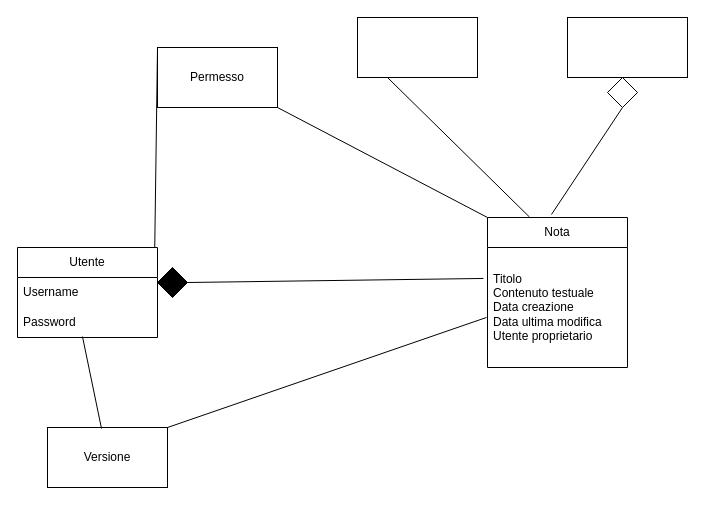
This 705x505 diagram has some shape labels left out. The centre of each missing label's shape, as x and y in pixels:
"Cartella" goes at (x=627, y=47).
"Tag" goes at (x=417, y=47).
